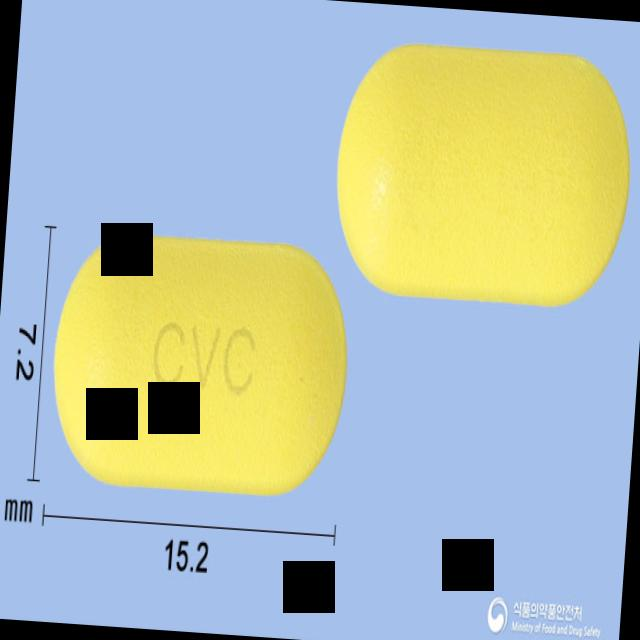Claricin - 500mg: (40, 220, 359, 508)
